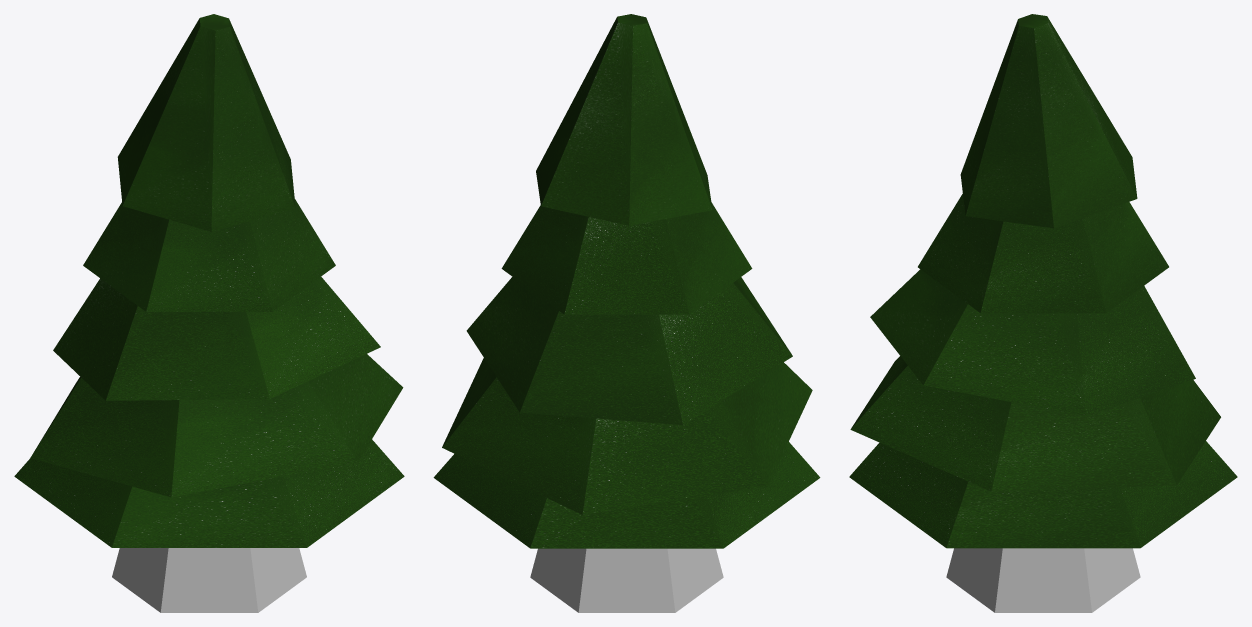
File: PineTree.fbx
The picture shows the model from 3 angles, left to right: view 1: azimuth 30°, elevation 25°; view 2: azimuth 150°, elevation 25°; view 3: azimuth 270°, elevation 25°; orthographic projection.
Visible parts, largest first — view 1: Cylinder.002, Cylinder.003, Cylinder.005, Cylinder.001, Cylinder.004, Cylinder; view 2: Cylinder.003, Cylinder.002, Cylinder.005, Cylinder.004, Cylinder.001, Cylinder; view 3: Cylinder.002, Cylinder.003, Cylinder.005, Cylinder.001, Cylinder.004, Cylinder.
Boxes of the visible parts, box(x1,y1,x2,y2) form: Cylinder.002: box(30, 354, 403, 497); Cylinder.003: box(53, 277, 380, 400); Cylinder.005: box(117, 14, 295, 231); Cylinder.001: box(14, 439, 404, 547); Cylinder.004: box(83, 199, 335, 311); Cylinder: box(112, 548, 306, 612); Cylinder.003: box(466, 277, 792, 425); Cylinder.002: box(442, 358, 812, 514); Cylinder.005: box(536, 14, 712, 225); Cylinder.004: box(501, 202, 752, 314); Cylinder.001: box(433, 442, 820, 548); Cylinder: box(530, 548, 723, 612); Cylinder.002: box(850, 356, 1220, 491); Cylinder.003: box(870, 269, 1195, 416); Cylinder.005: box(960, 14, 1137, 228); Cylinder.001: box(849, 441, 1237, 548); Cylinder.004: box(918, 193, 1168, 313); Cylinder: box(946, 548, 1140, 612).
Bounding box in the file's own units: 430 × 701 × 443.
